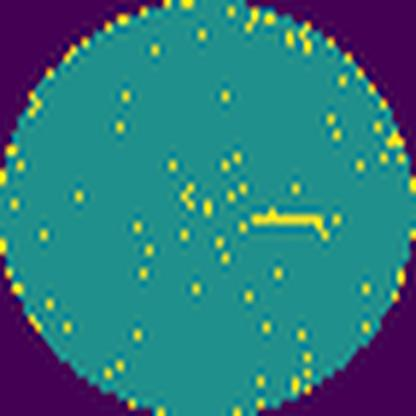Scratch: (245, 204, 335, 242)
